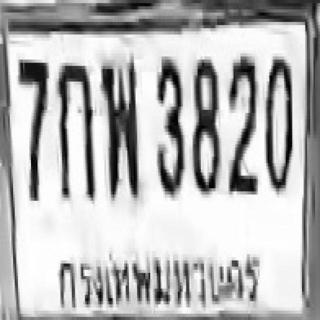A01: (56, 58, 94, 199)
A30: (100, 58, 139, 196)
N00: (264, 52, 291, 190)
N02: (227, 53, 256, 191)
N03: (155, 55, 183, 193)
N07: (17, 60, 48, 201)
N08: (191, 56, 219, 192)
P04: (51, 242, 263, 320)
